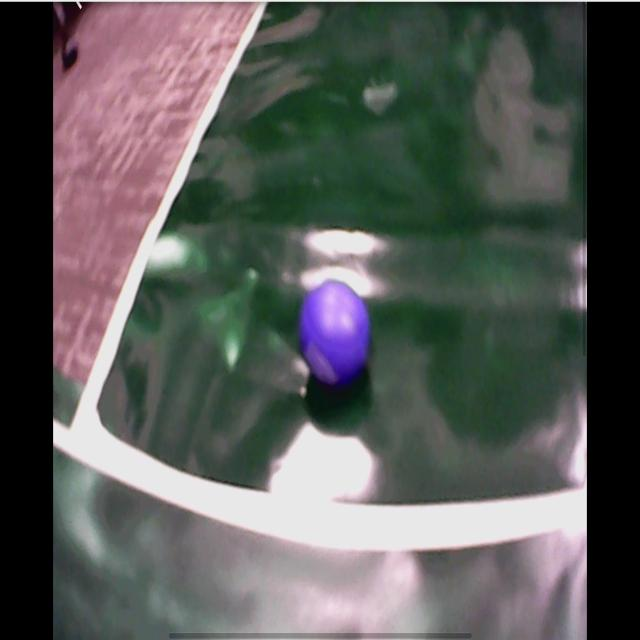ball: (300, 280, 370, 385)
